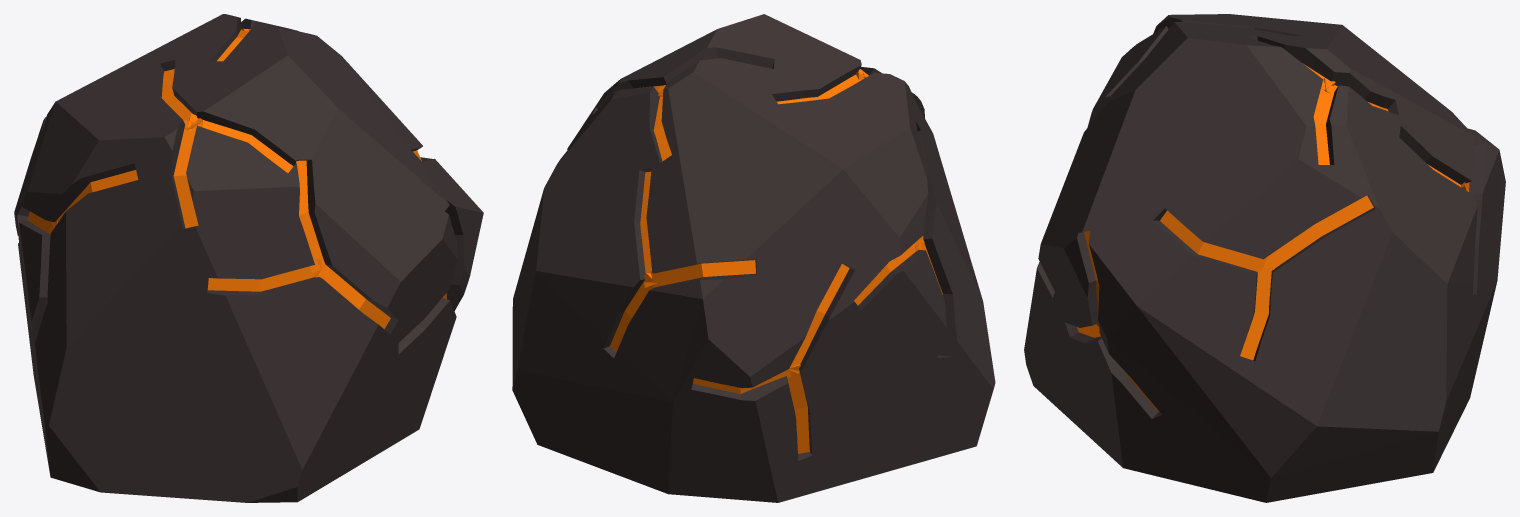
Rendered from EmberBoulder.fbx.
3 renders of one model, left to right at view 1: azimuth 30°, elevation 25°; view 2: azimuth 150°, elevation 25°; view 3: azimuth 270°, elevation 25°, orthographic. The views are drawn at different scales.
Visible parts, largest first — view 1: EmberBoulder, EmberBoulder_Cracks; view 2: EmberBoulder, EmberBoulder_Cracks; view 3: EmberBoulder, EmberBoulder_Cracks.
Part boxes in pixels (x1,y1,x2,y2): EmberBoulder: [14, 14, 483, 502]; EmberBoulder_Cracks: [28, 28, 446, 329]; EmberBoulder: [512, 14, 995, 502]; EmberBoulder_Cracks: [610, 69, 942, 453]; EmberBoulder: [1024, 14, 1505, 502]; EmberBoulder_Cracks: [1077, 64, 1469, 411].
Size of the model in its own units: 16.37 by 13.73 by 15.67.
